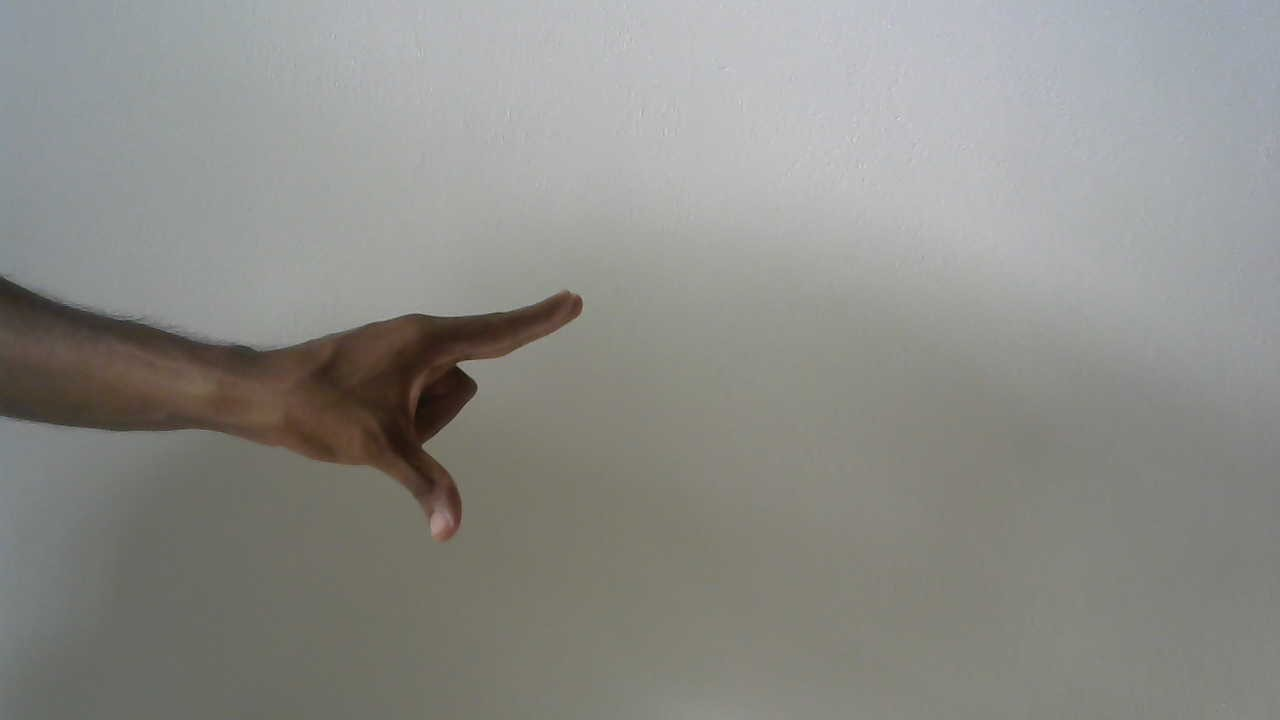no: (256, 273, 603, 554)
